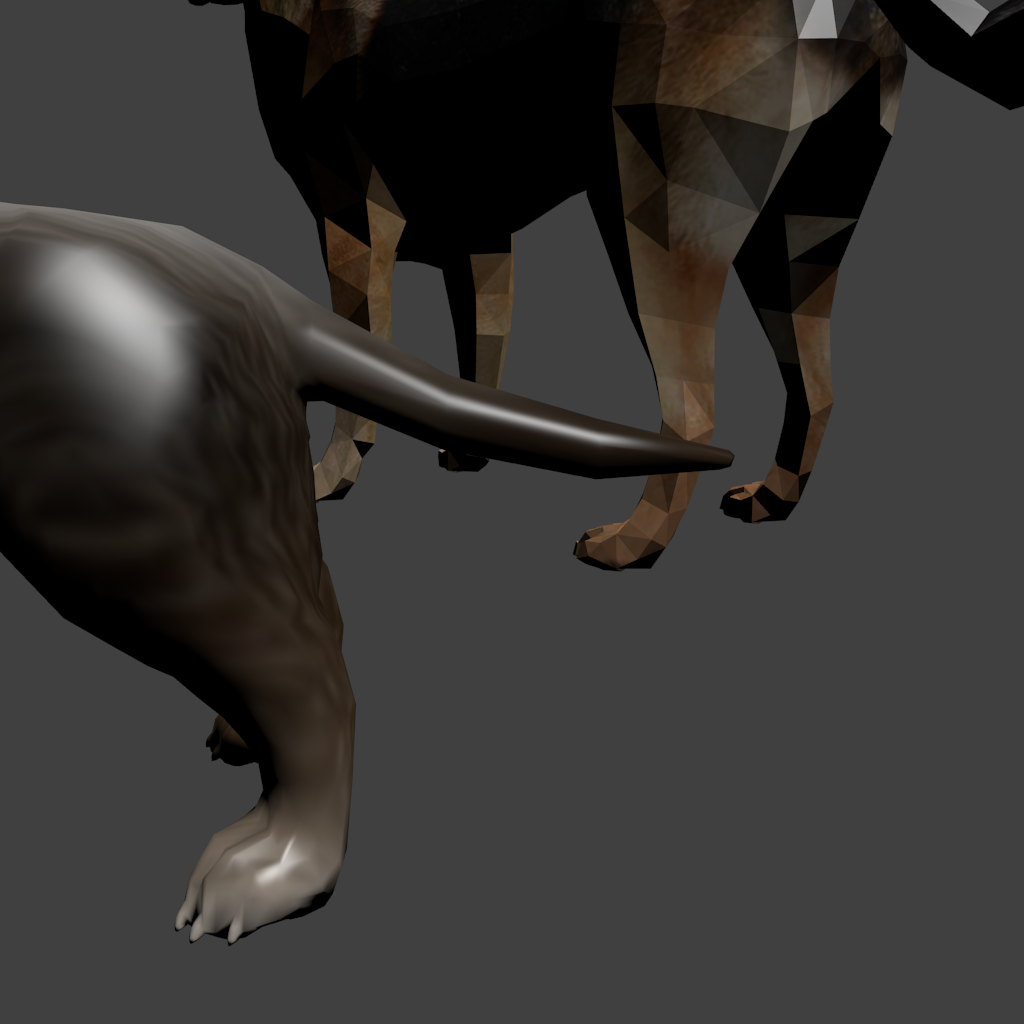Dog: (0, 157, 735, 867), (186, 0, 838, 572)
